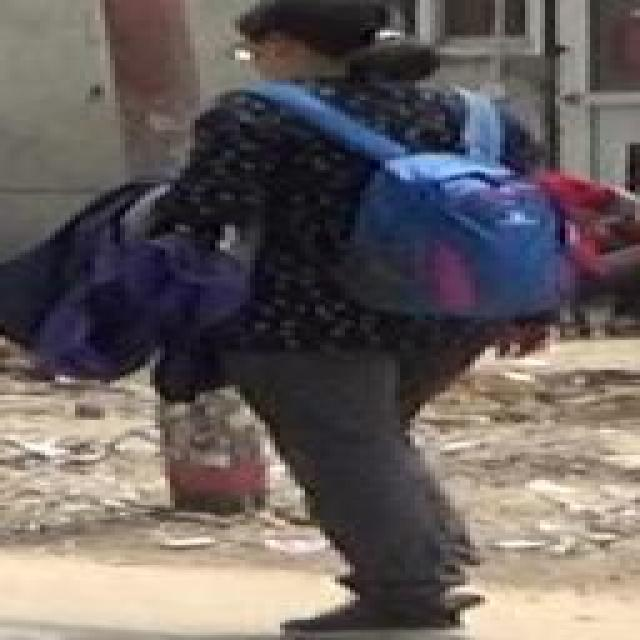adult: (146, 7, 521, 640)
